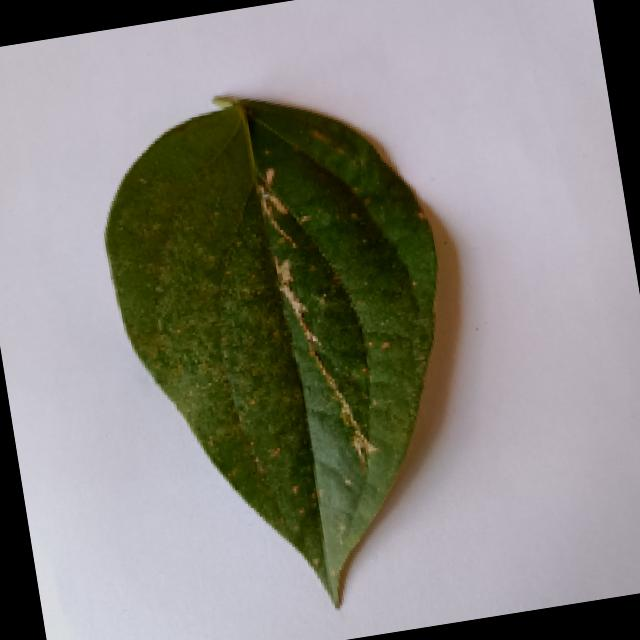pollu-disease: (81, 69, 488, 634)
